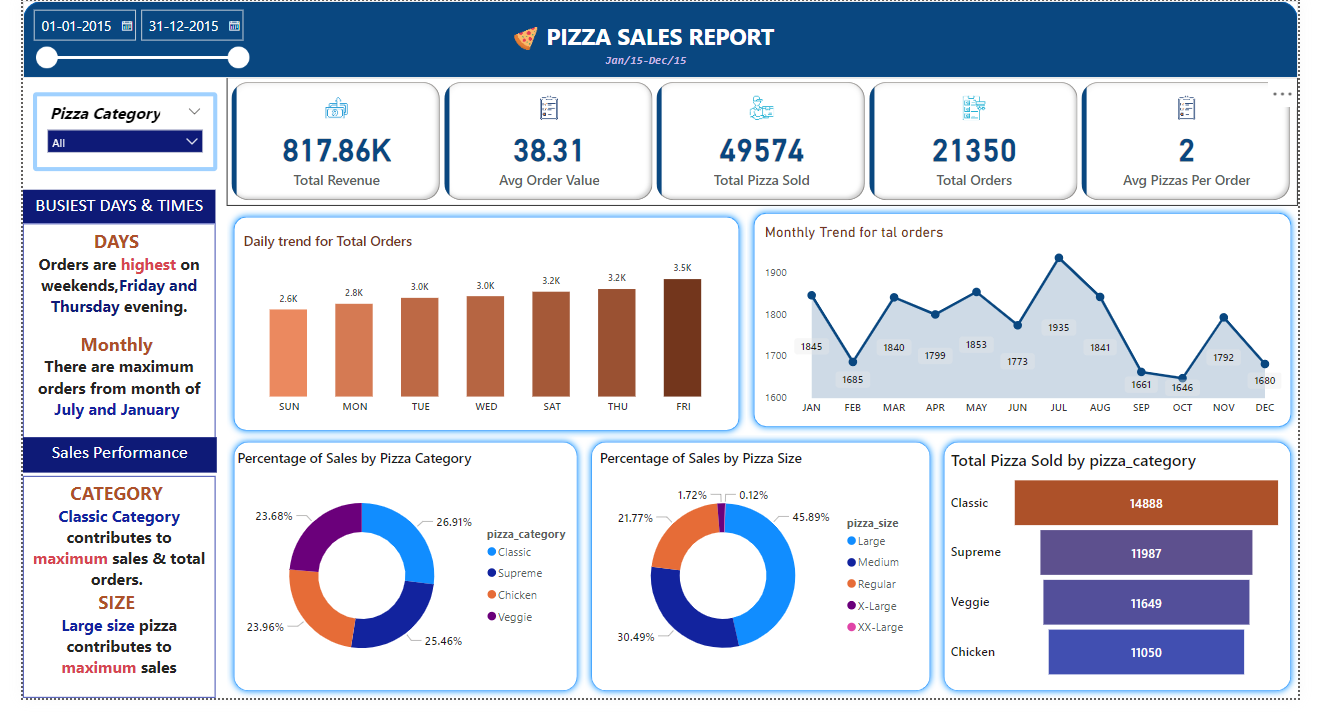

The dashboard page shown, as its layout file describes it:
{"tool":"powerbi","page":{"name":"Home","canvas":[1500,820],"ordinal":0},"visuals":[{"type":"cardVisual","fields":{"Data":["pizza_sales.Total Revenue","pizza_sales.Avg Order Value","pizza_sales.Total Pizza Sold","pizza_sales.Total Orders","pizza_sales.Avg Pizza Sold"]},"box":[240.3,90.3,1259.7,151.4],"z":1000},{"type":"shape","box":[0,0,1500,90.3],"z":2000},{"type":"textbox","box":[593.1,18.1,313.9,52.8],"z":3000},{"type":"textbox","box":[0,222.2,226.4,38.9],"z":4000},{"type":"textbox","box":[612.5,54.2,238.9,36.1],"z":5000},{"type":"image","box":[523.6,25,136.1,38.9],"z":6000},{"type":"shape","box":[851.4,241.7,648.6,268.1],"z":7000},{"type":"shape","box":[240.3,509.7,420.8,309.7],"z":9000},{"type":"donutChart","title":"Percentage of Sales by Pizza Category","fields":{"Category":["pizza_sales.pizza_category"],"Y":["pizza_sales.Total Revenue"]},"box":[247.2,526.4,412.5,277.8],"z":10000},{"type":"shape","box":[659.7,509.7,415.3,309.7],"z":11000},{"type":"donutChart","title":"Percentage of Sales by Pizza Size","fields":{"Category":["pizza_sales.pizza_size"],"Y":["pizza_sales.Total Revenue"]},"box":[673.6,526.4,380.6,277.8],"z":12000},{"type":"shape","box":[1075,509.7,425,309.7],"z":13000},{"type":"funnel","fields":{"Category":["pizza_sales.pizza_category"],"Y":["pizza_sales.Total Pizza Sold"]},"box":[1086.1,526.4,400,277.8],"z":14000},{"type":"shape","box":[240.3,245.8,611.1,268.1],"z":15000},{"type":"stackedAreaChart","title":" Monthly Trend for tal orders","fields":{"Category":["pizza_sales.Order Month"],"Y":["pizza_sales.Total Orders"]},"box":[868.1,261.1,618.1,234.7],"z":16000},{"type":"textbox","box":[0,261.1,226.4,252.8],"z":17000},{"type":"textbox","box":[0,558.3,226.4,261.1],"z":18000},{"type":"textbox","box":[0,513.9,227.8,41.7],"z":19000},{"type":"slicer","fields":{"Values":["pizza_sales.order_date"]},"box":[0,0,275,90.3],"z":20000},{"type":"slicer","fields":{"Values":["pizza_sales.pizza_category"]},"box":[11.1,106.9,216.7,93.1],"z":21000},{"type":"columnChart","title":"Daily trend for Total Orders","fields":{"Category":["pizza_sales.Order Day"],"Y":["pizza_sales.Total Orders"]},"box":[254.2,270.8,581.9,225],"z":23500}]}

Visuals, with their boxes in screenshot pixels (x1, y1, x2, y2), scaled from the page's 1500x820 canvas onto the 1320x713 screenshot:
cardVisual - pizza_sales.Total Revenue x pizza_sales.Avg Order Value: bbox(211, 79, 1319, 210)
shape: bbox(0, 0, 1319, 79)
textbox: bbox(522, 16, 798, 62)
textbox: bbox(0, 193, 199, 227)
textbox: bbox(539, 47, 749, 79)
image: bbox(461, 22, 581, 56)
shape: bbox(749, 210, 1319, 443)
shape: bbox(211, 443, 582, 712)
"Percentage of Sales by Pizza Category" donutChart: bbox(218, 458, 581, 699)
shape: bbox(581, 443, 946, 712)
"Percentage of Sales by Pizza Size" donutChart: bbox(593, 458, 928, 699)
shape: bbox(946, 443, 1319, 712)
funnel - pizza_sales.pizza_category x pizza_sales.Total Pizza Sold: bbox(956, 458, 1308, 699)
shape: bbox(211, 214, 749, 447)
" Monthly Trend for tal orders" stackedAreaChart: bbox(764, 227, 1308, 431)
textbox: bbox(0, 227, 199, 447)
textbox: bbox(0, 485, 199, 712)
textbox: bbox(0, 447, 200, 483)
slicer - pizza_sales.order_date: bbox(0, 0, 242, 79)
slicer - pizza_sales.pizza_category: bbox(10, 93, 200, 174)
"Daily trend for Total Orders" columnChart: bbox(224, 235, 736, 431)
